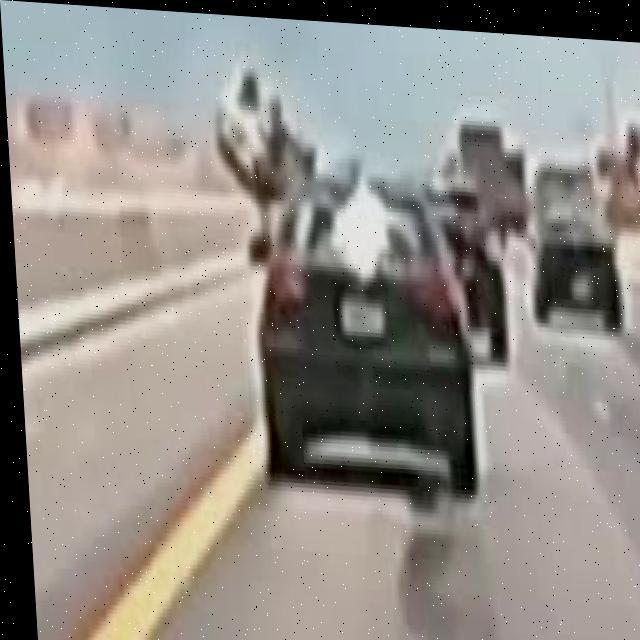multiple_accident: (210, 59, 494, 477)
